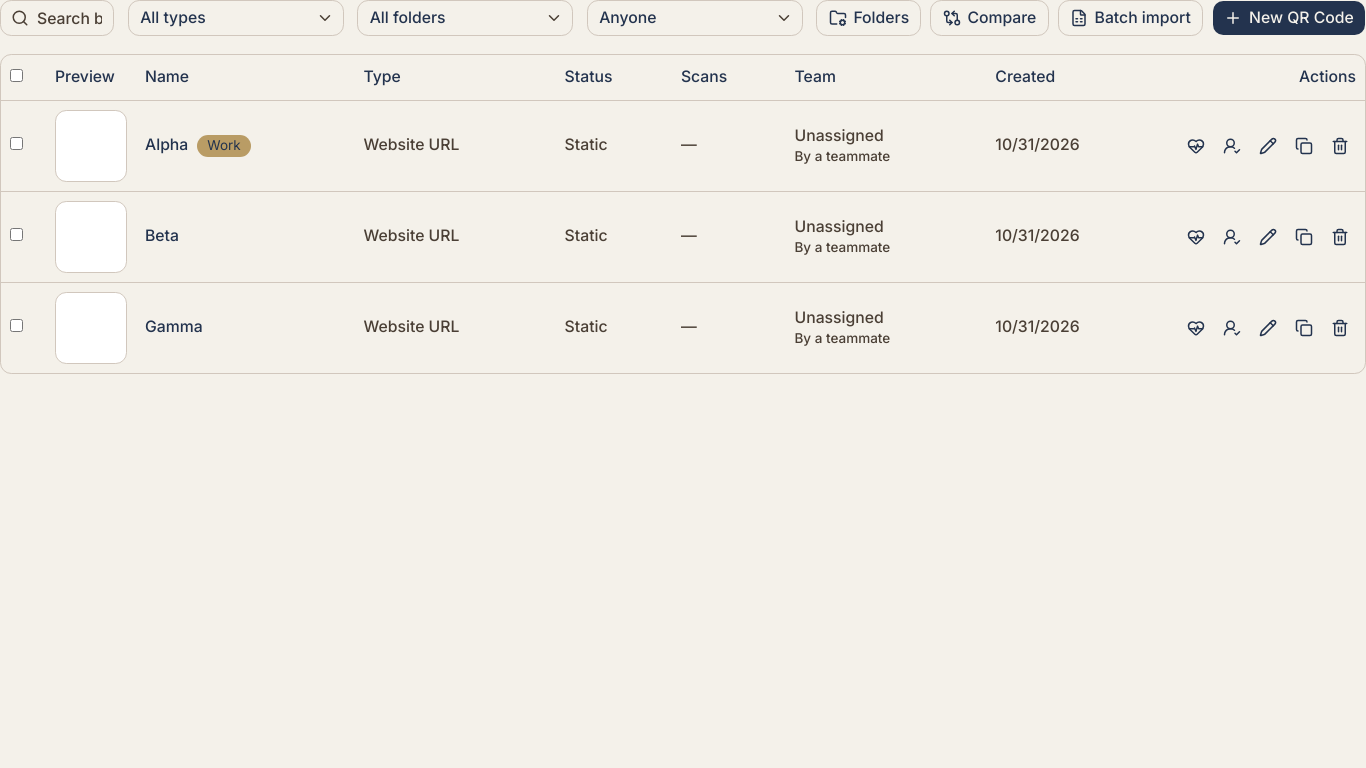
Test case: QRCodeList folders, selection and duplicate › links to batch import, compare and the folder manager
Click the button "Folders": (869, 18) x1=816 y1=0 x2=921 y2=36
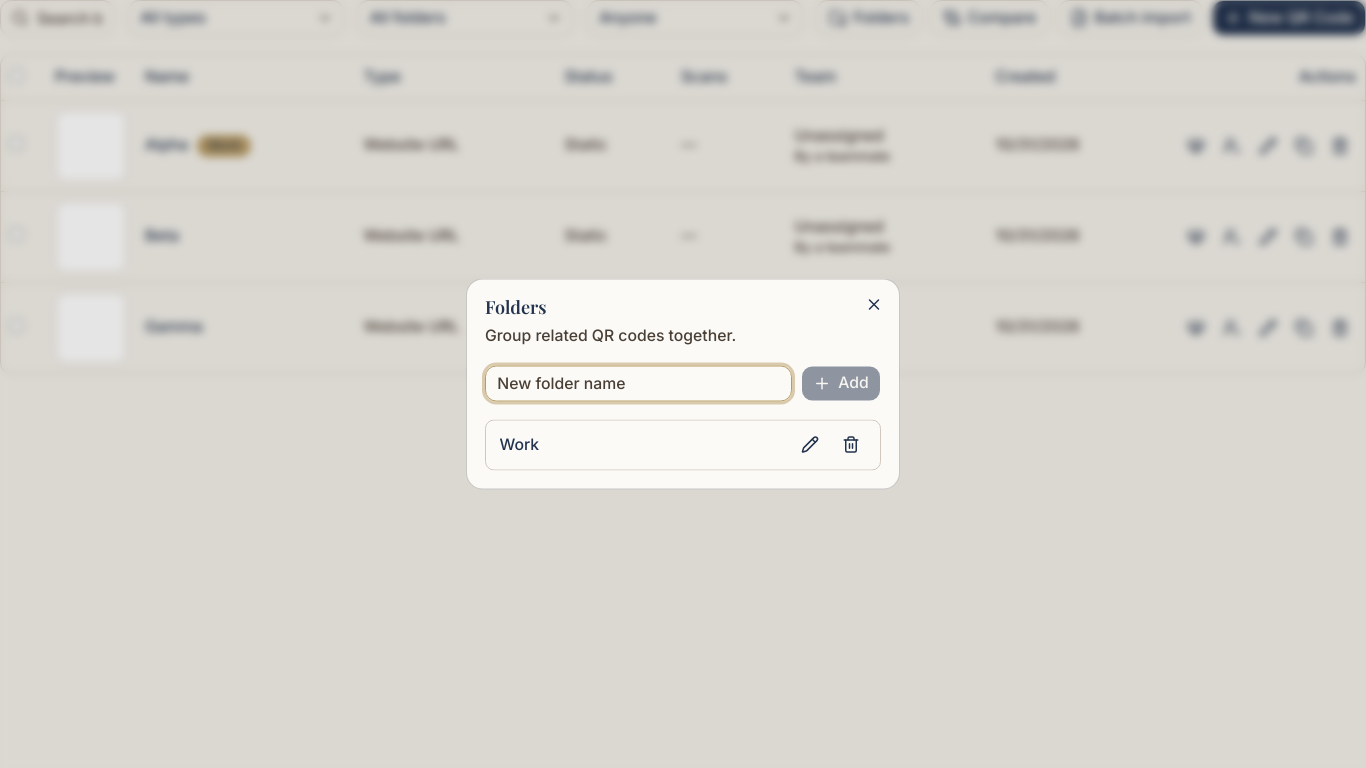
Result: the text "Group related QR codes together." is shown at x1=485 y1=326 x2=736 y2=344
